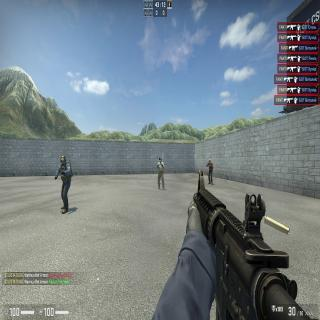CT-Body: (59, 155, 71, 213)
CT-Head: (60, 156, 66, 167)
T-Body: (158, 158, 164, 188), (207, 159, 213, 183)
T-Head: (209, 159, 211, 164)
